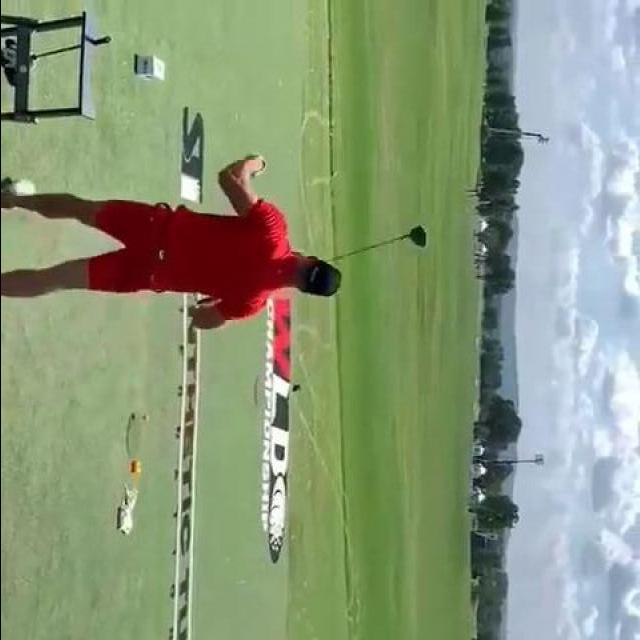golf ball: (143, 415, 148, 421)
golf club-handle: (197, 225, 426, 305)
golf club-head: (408, 224, 426, 249)
